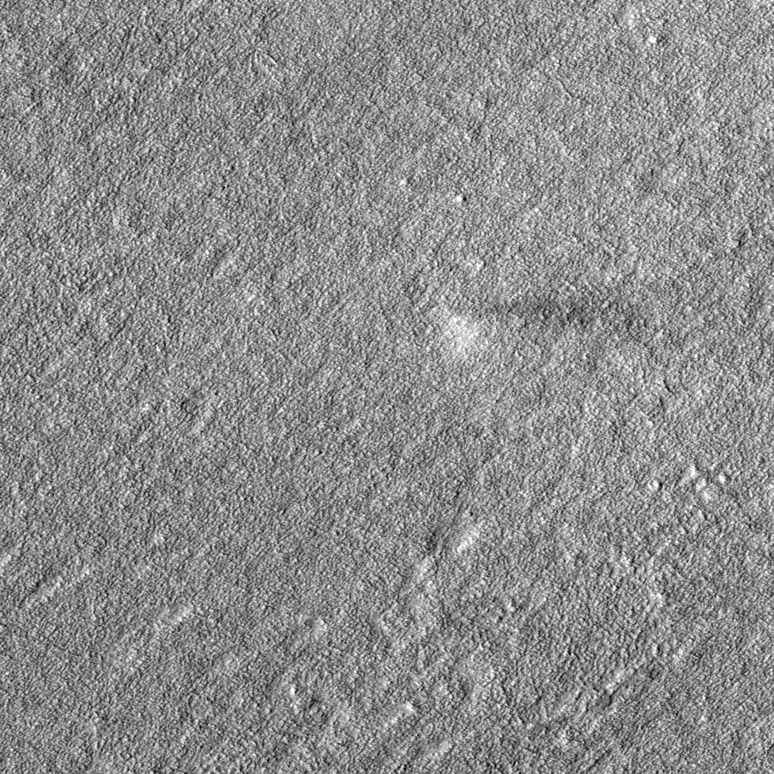dust_devil: (441, 296, 640, 363)
